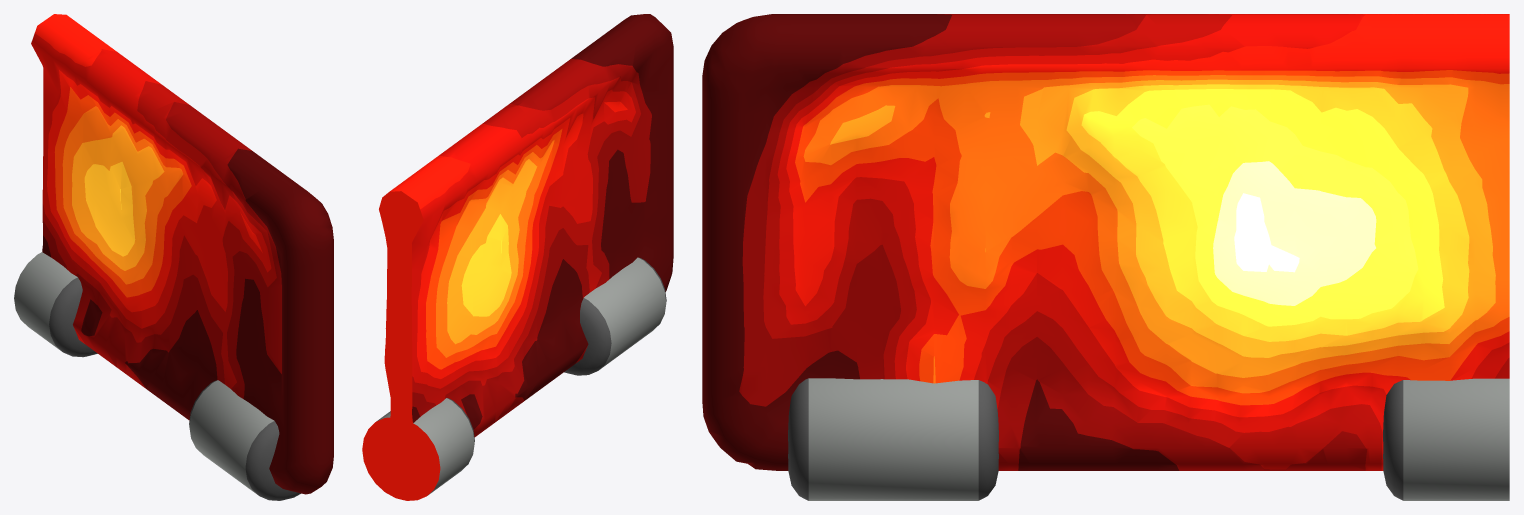
File: fire_flap_l_bottom.glb
3 views of the same model, side by side, from view 1: azimuth 30°, elevation 25°; view 2: azimuth 150°, elevation 25°; view 3: azimuth 270°, elevation 25° (orthographic). The views are drawn at different scales.
Visible parts, largest first — view 1: flap.001, knuckle2.001, knuckle1.001; view 2: flap.001, knuckle1.001, knuckle2.001; view 3: flap.001, knuckle2.001, knuckle1.001.
Part boxes in pixels (bbox=[...]): flap.001: bbox=[31, 14, 333, 494]; knuckle2.001: bbox=[189, 380, 300, 500]; knuckle1.001: bbox=[14, 252, 97, 357]; flap.001: bbox=[379, 14, 673, 482]; knuckle1.001: bbox=[362, 398, 474, 500]; knuckle2.001: bbox=[564, 257, 666, 375]; flap.001: bbox=[702, 14, 1509, 470]; knuckle2.001: bbox=[788, 378, 998, 500]; knuckle1.001: bbox=[1383, 378, 1509, 500].
Bounding box in the file's own units: 3.3 × 12.43 × 19.
